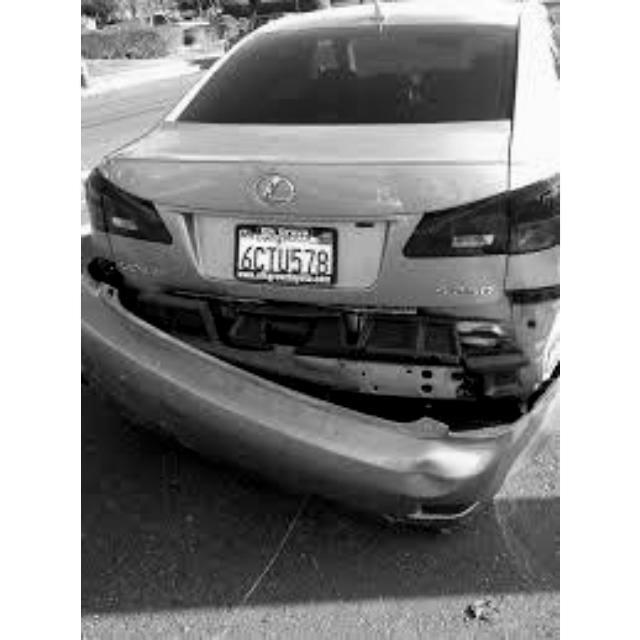rear-bumper-dent: (80, 344, 522, 504)
